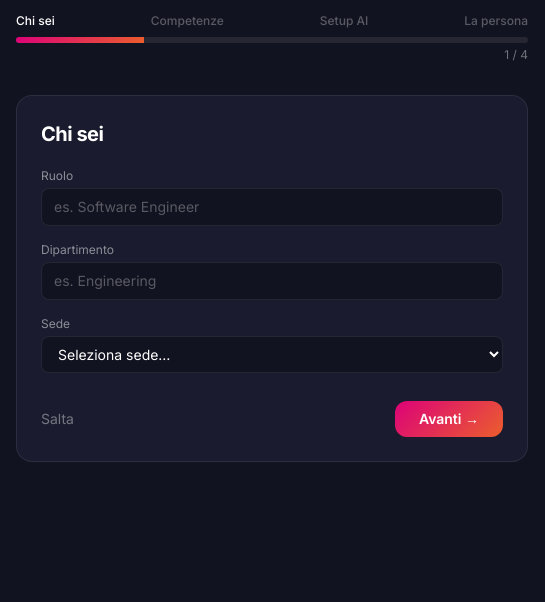
Test case: OnboardingWizard › "Salta" advances to the next step
Click the button "Salta": {"x": 58, "y": 419} [41,401,74,437]
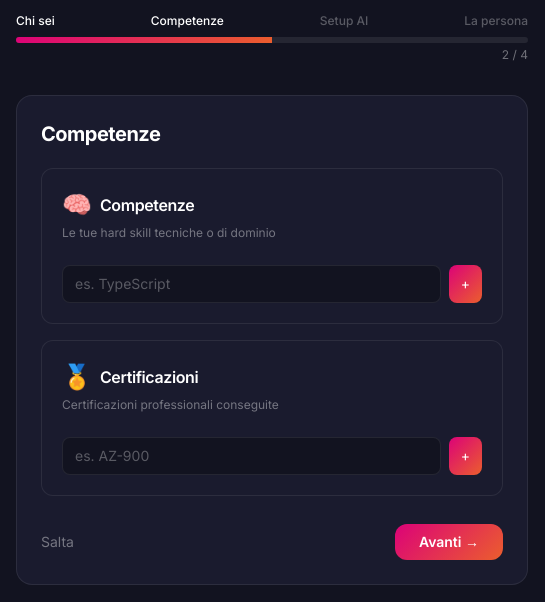
Now the 1st heading "Competenze" is shown, box [41,122,160,146]
Now the text "2 / 4" is shown, box [502,47,528,62]
